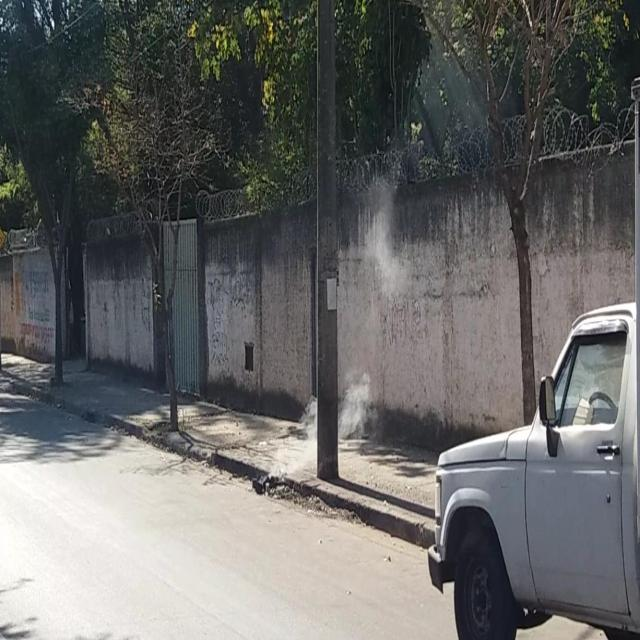Smoke: (411, 34, 516, 154), (284, 382, 382, 480), (361, 168, 423, 298)
